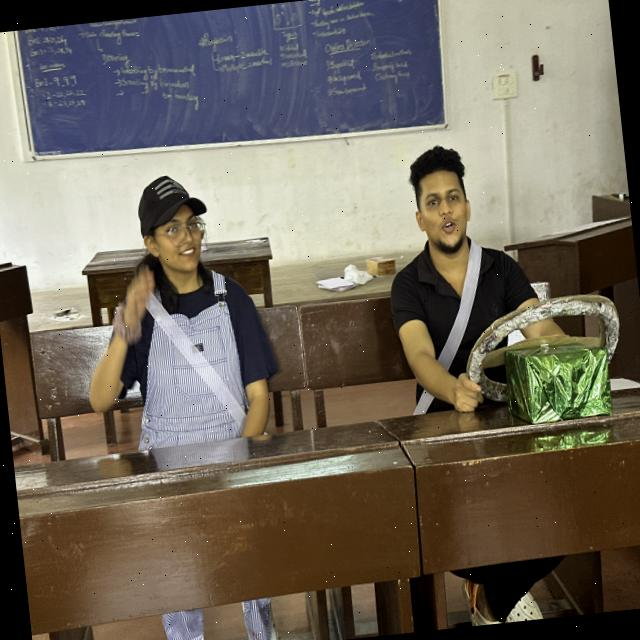seatbelt: (100, 271, 280, 454), (382, 237, 552, 416)
